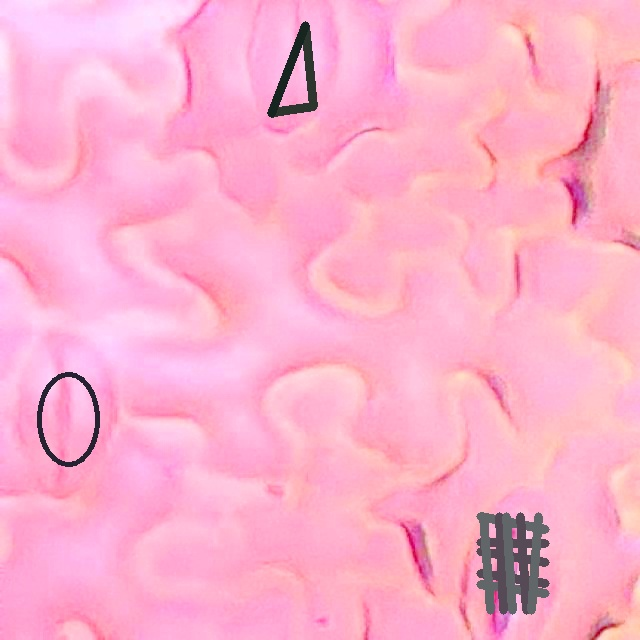close: (267, 21, 317, 115)
open: (476, 512, 549, 614), (35, 371, 100, 467)
